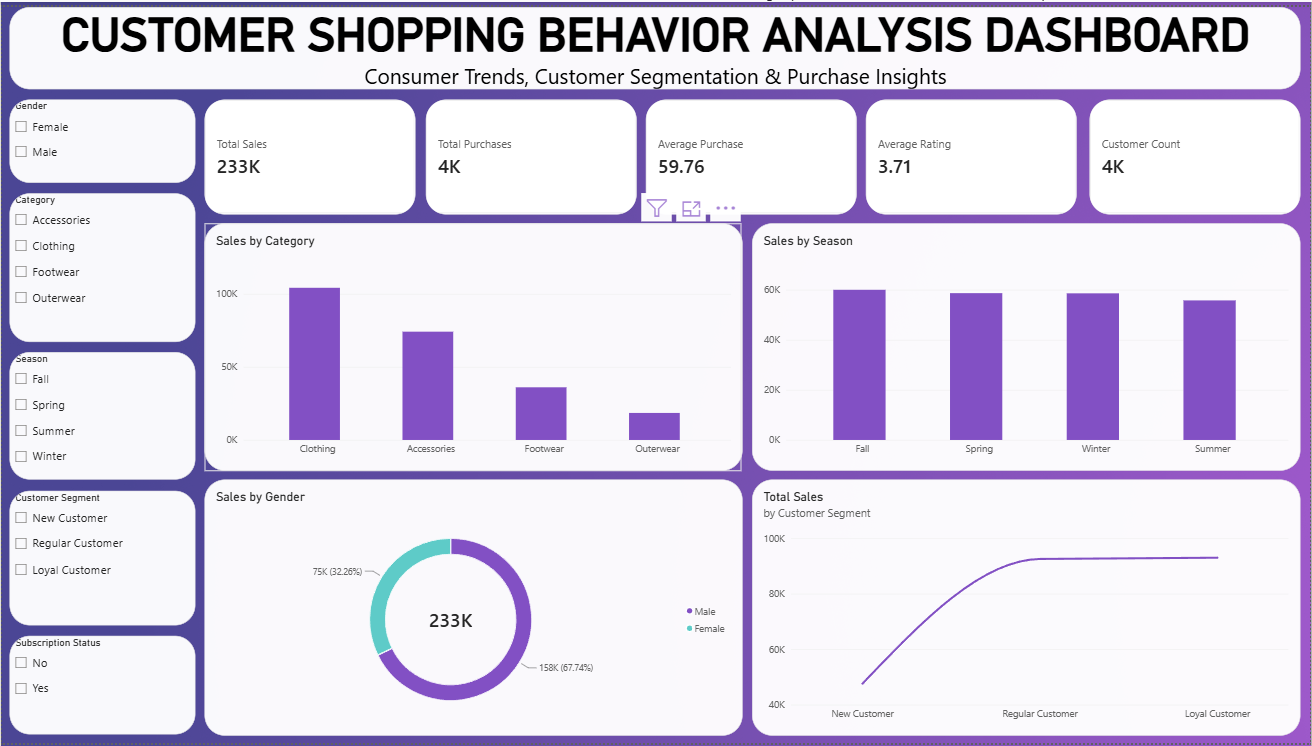

The page's visual inventory and layout, read from the dashboard file:
{"tool":"powerbi","page":{"name":"Executive Overview","canvas":[1920,1080],"ordinal":0},"visuals":[{"type":"textbox","title":"CUSTOMER SHOPPING BEHAVIOR ANALYSIS DASHBOARD","box":[11,0,1894.7,120.9],"z":0},{"type":"cardVisual","fields":{"Data":["customer_shopping customer_shopping_data.Total Sales"]},"box":[296.9,135.6,309.7,168.6],"z":1000},{"type":"cardVisual","fields":{"Data":["customer_shopping customer_shopping_data.Total Purchases"]},"box":[621.2,135.6,309.7,168.6],"z":2000},{"type":"cardVisual","fields":{"Data":["customer_shopping customer_shopping_data.Average Purchase"]},"box":[945.5,135.6,309.7,168.6],"z":3000},{"type":"cardVisual","fields":{"Data":["customer_shopping customer_shopping_data.Average Rating"]},"box":[1268,135.6,309.7,168.6],"z":4000},{"type":"cardVisual","fields":{"Data":["customer_shopping customer_shopping_data.Customer Count"]},"box":[1596,135.6,309.7,168.6],"z":5000},{"type":"clusteredColumnChart","title":"Sales by Category","fields":{"Category":["customer_shopping customer_shopping_data.Category"],"Y":["customer_shopping customer_shopping_data.Total Sales"]},"box":[296.9,317,789.8,362.8],"z":6000},{"type":"slicer","fields":{"Values":["customer_shopping customer_shopping_data.Gender"]},"box":[11,135.6,273,122.8],"z":7000},{"type":"slicer","fields":{"Values":["customer_shopping customer_shopping_data.Category"]},"box":[11,273,273,218.1],"z":8000},{"type":"slicer","fields":{"Values":["customer_shopping customer_shopping_data.Season"]},"box":[11,505.7,273,186.9],"z":9000},{"type":"slicer","fields":{"Values":["customer_shopping customer_shopping_data.Customer Segment"]},"box":[11,709.1,273,197.9],"z":10000},{"type":"slicer","fields":{"Values":["customer_shopping customer_shopping_data.Subscription Status"]},"box":[11,923.5,273,144.8],"z":11000},{"type":"clusteredColumnChart","title":"Sales by Season","fields":{"Category":["customer_shopping customer_shopping_data.Season"],"Y":["customer_shopping customer_shopping_data.Total Sales"]},"box":[1101.3,317,804.4,362.8],"z":12000},{"type":"donutChart","title":"Sales by Gender","fields":{"Category":["customer_shopping customer_shopping_data.Gender"],"Y":["customer_shopping customer_shopping_data.Total Sales"]},"box":[296.9,692.7,789.8,375.6],"z":13000},{"type":"lineChart","fields":{"Category":["customer_shopping customer_shopping_data.Customer Segment"],"Y":["customer_shopping customer_shopping_data.Total Sales"]},"box":[1101.3,692.7,804.4,375.6],"z":14000}]}

Visuals, with their boxes in screenshot pixels (x1, y1, x2, y2), scaled from the page's 1920x1080 canvas onto the 1312x746 screenshot:
"CUSTOMER SHOPPING BEHAVIOR ANALYSIS DASHBOARD" textbox: 8:0:1302:84
cardVisual - customer_shopping customer_shopping_data.Total Sales: 203:94:415:210
cardVisual - customer_shopping customer_shopping_data.Total Purchases: 424:94:636:210
cardVisual - customer_shopping customer_shopping_data.Average Purchase: 646:94:858:210
cardVisual - customer_shopping customer_shopping_data.Average Rating: 866:94:1078:210
cardVisual - customer_shopping customer_shopping_data.Customer Count: 1091:94:1302:210
"Sales by Category" clusteredColumnChart: 203:219:743:470
slicer - customer_shopping customer_shopping_data.Gender: 8:94:194:178
slicer - customer_shopping customer_shopping_data.Category: 8:189:194:339
slicer - customer_shopping customer_shopping_data.Season: 8:349:194:478
slicer - customer_shopping customer_shopping_data.Customer Segment: 8:490:194:627
slicer - customer_shopping customer_shopping_data.Subscription Status: 8:638:194:738
"Sales by Season" clusteredColumnChart: 753:219:1302:470
"Sales by Gender" donutChart: 203:478:743:738
lineChart - customer_shopping customer_shopping_data.Customer Segment x customer_shopping customer_shopping_data.Total Sales: 753:478:1302:738
